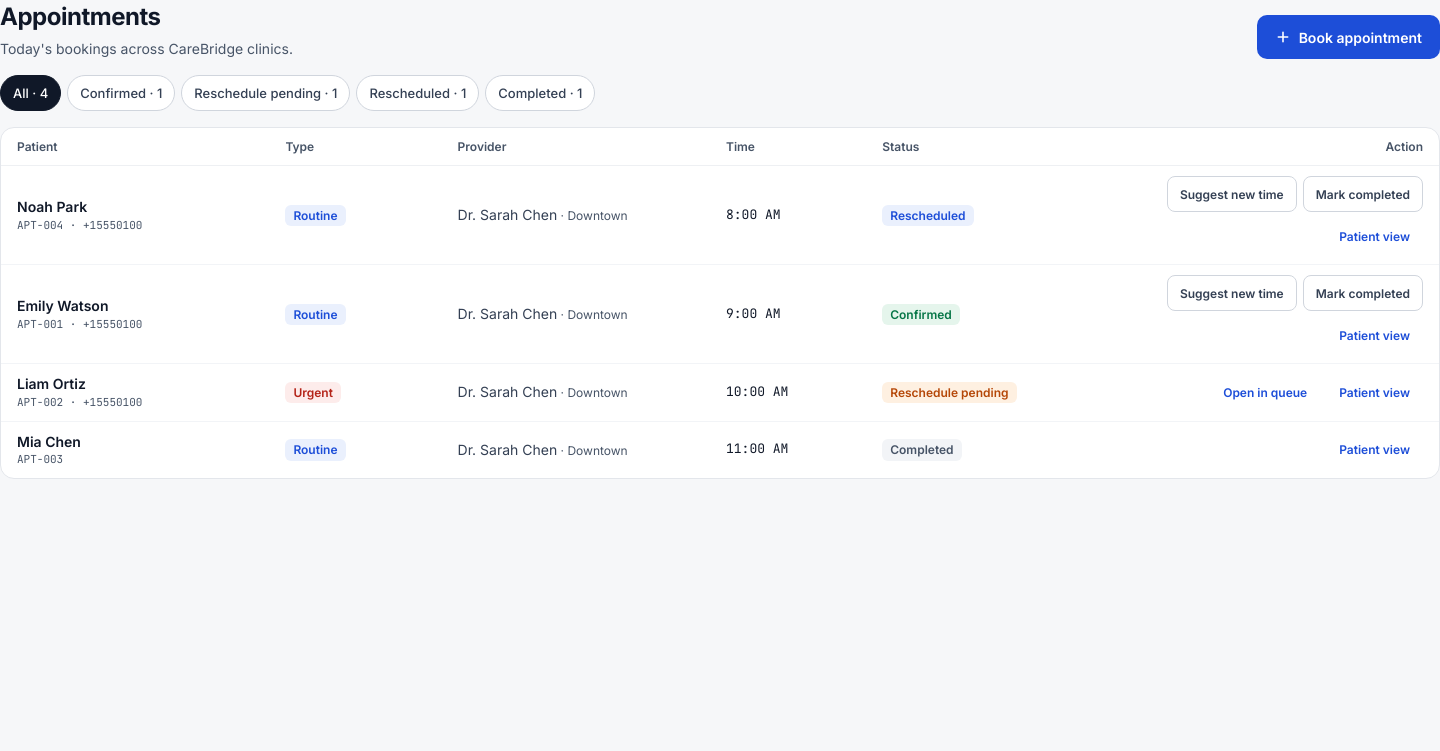
BookingForm › shows a message when the provider has no open slots
The width and height of the screenshot is (1440, 751).
Click the button "Book appointment" at (1348, 37), box [1257,15,1439,59]
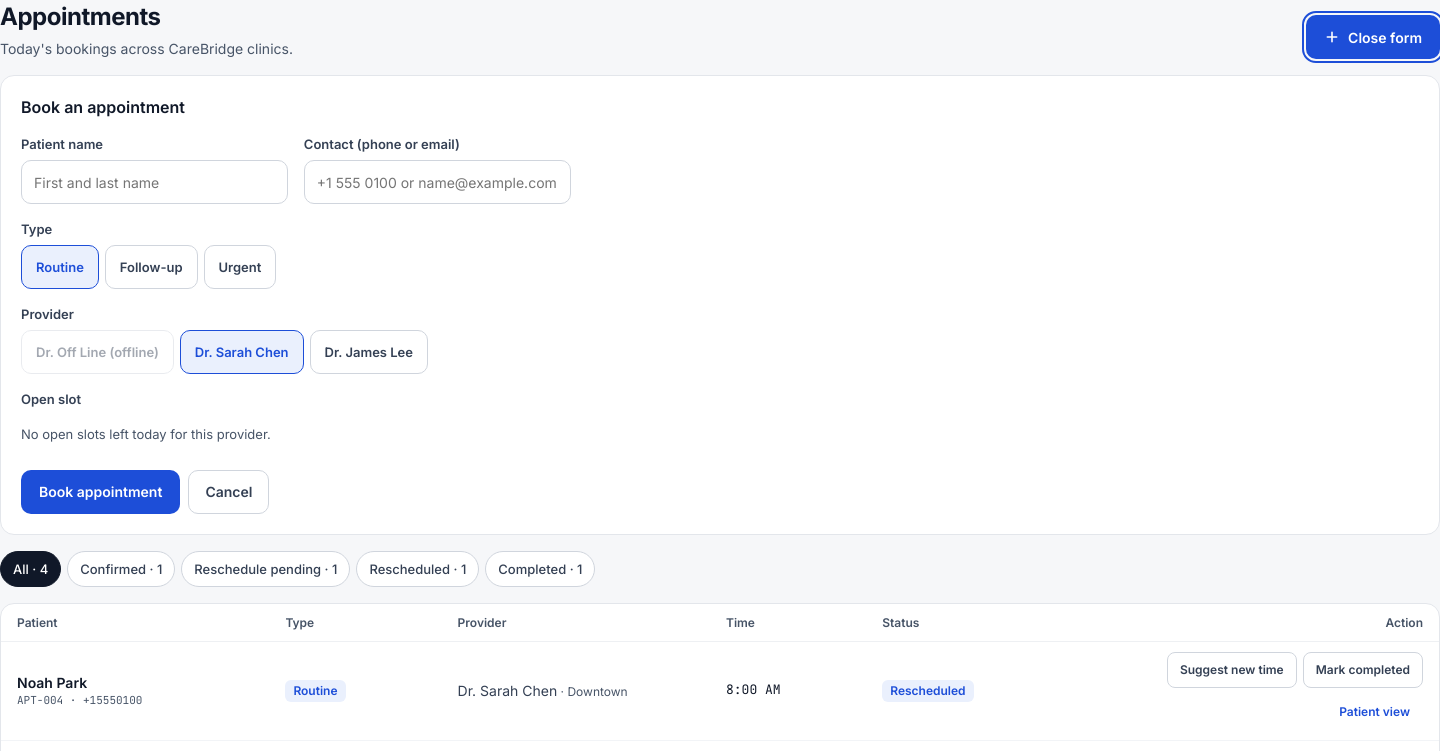
Expected: the text "No open slots left today for this provider." is shown, [21,426,271,442]
